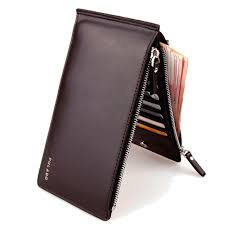monedero: (37, 8, 206, 221)
